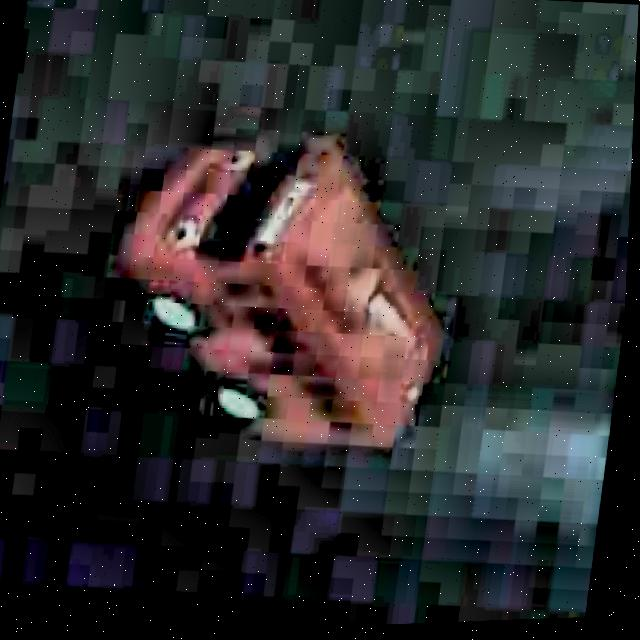bus: (76, 95, 487, 482)
